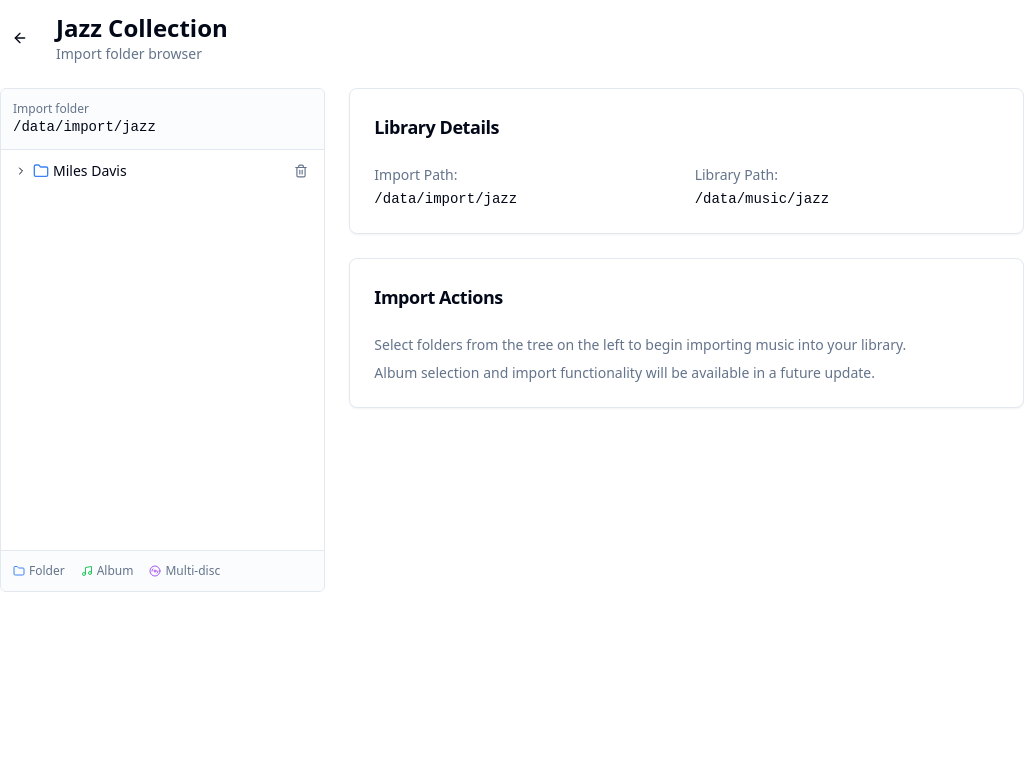
Test: LibraryImportPage - Integration Tests › Multi-disc album display › should display multi-disc parent with badge after expansion
Expected: the button "Miles Davis" is shown, [53,161,127,181]
Expected: the text "Multi-disc" is shown once, [166,563,220,579]
Note: Expand "Miles Davis" folder
Click the button named "expand" at point(21, 171), box [13,163,29,179]
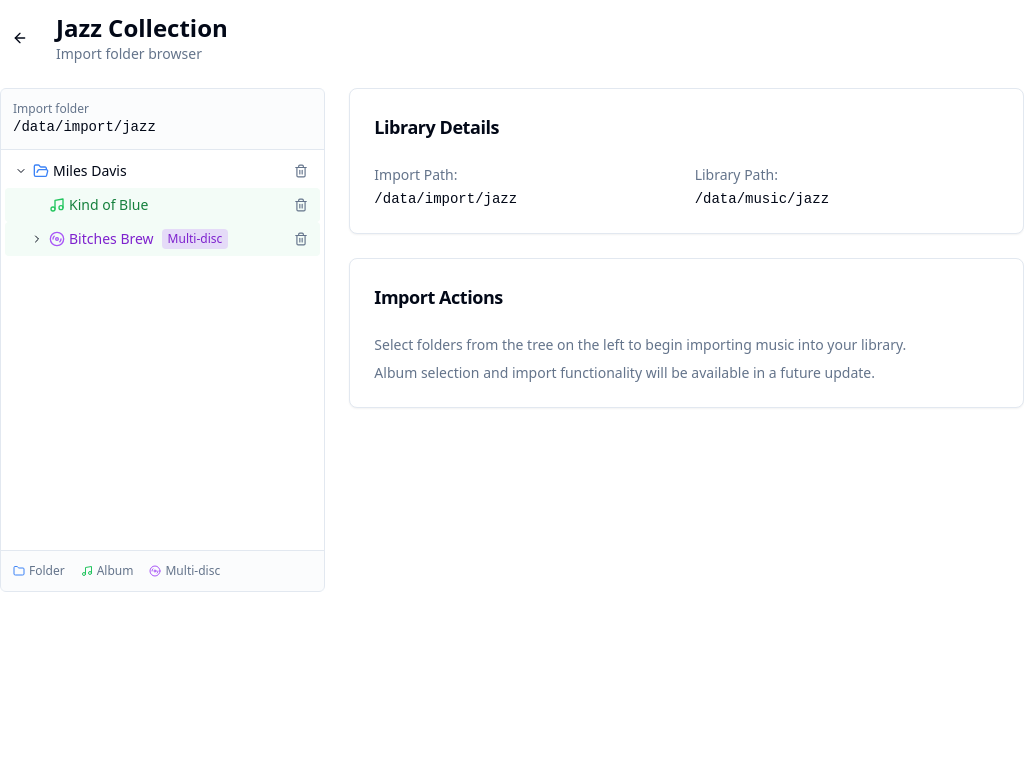
Expected: the button "Bitches Brew" is shown, [69,229,154,249]
Expected: the text "Multi-disc" is shown 2 times, [162,229,228,249]; [166,563,220,579]
